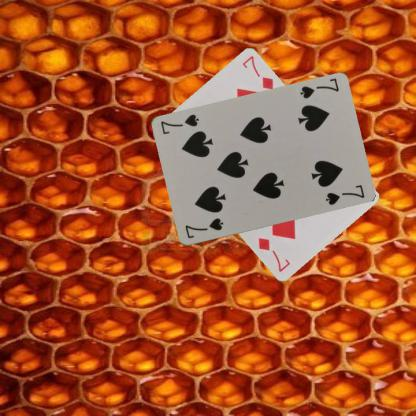7s: (182, 216, 225, 240), (297, 76, 340, 100)
